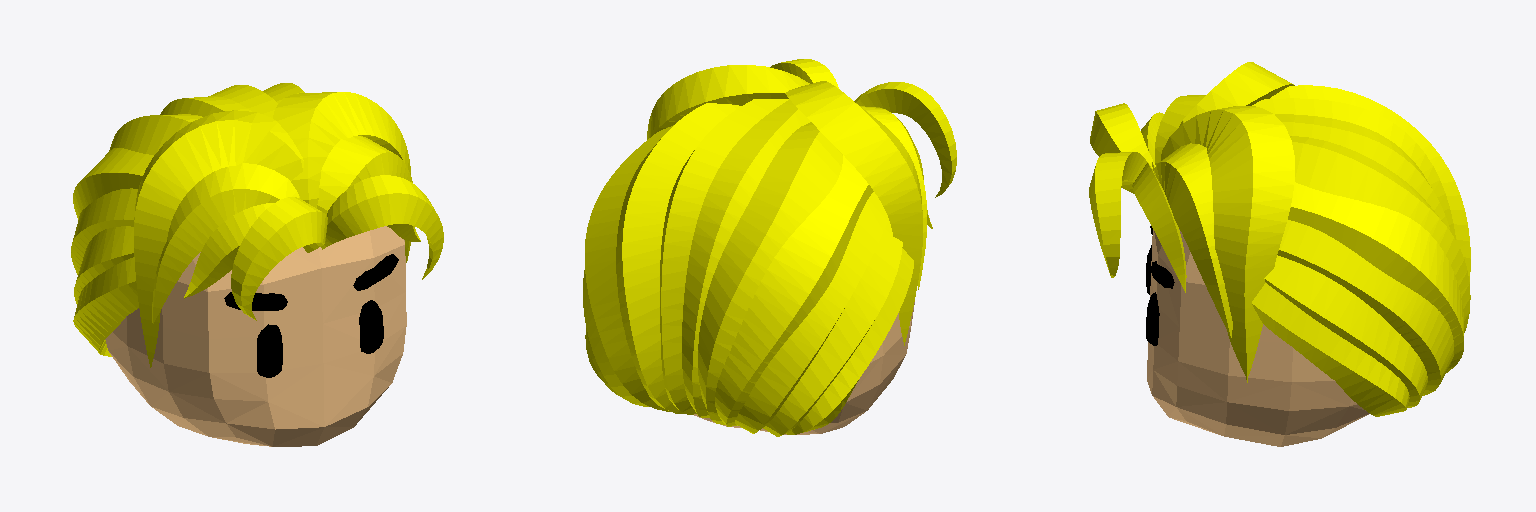
File: head.obj
The picture shows the model from 3 angles: view 1: azimuth 30°, elevation 25°; view 2: azimuth 150°, elevation 25°; view 3: azimuth 270°, elevation 25°; orthographic projection.
Parts seen in each view (by area): view 1: Hair, Hair head, Hair Face; view 2: Hair, Hair head; view 3: Hair, Hair head, Hair Face.
Part boxes in pixels (x1,y1,x2,y2): Hair: (71, 83, 443, 367); Hair head: (105, 226, 406, 446); Hair Face: (224, 254, 398, 377); Hair: (583, 59, 956, 436); Hair head: (694, 302, 914, 434); Hair: (1089, 62, 1470, 416); Hair head: (1147, 229, 1369, 446); Hair Face: (1146, 226, 1174, 345).
Size of the model in its own units: 1.13 by 1.24 by 1.31.